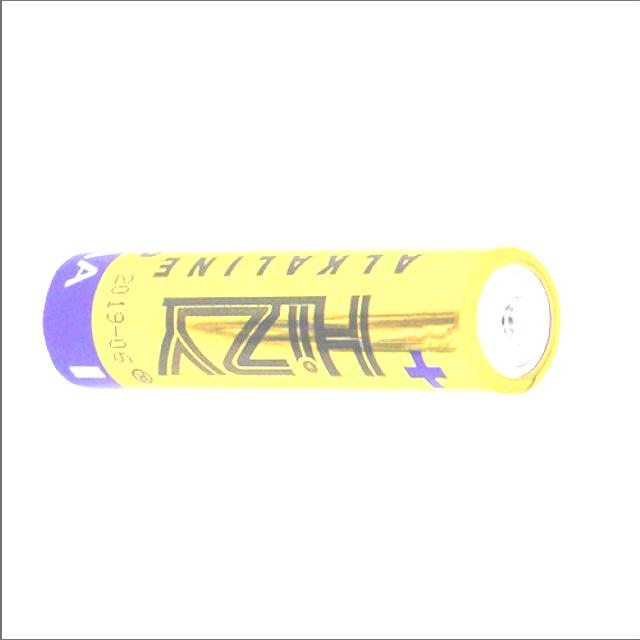AA: (37, 240, 575, 391)
